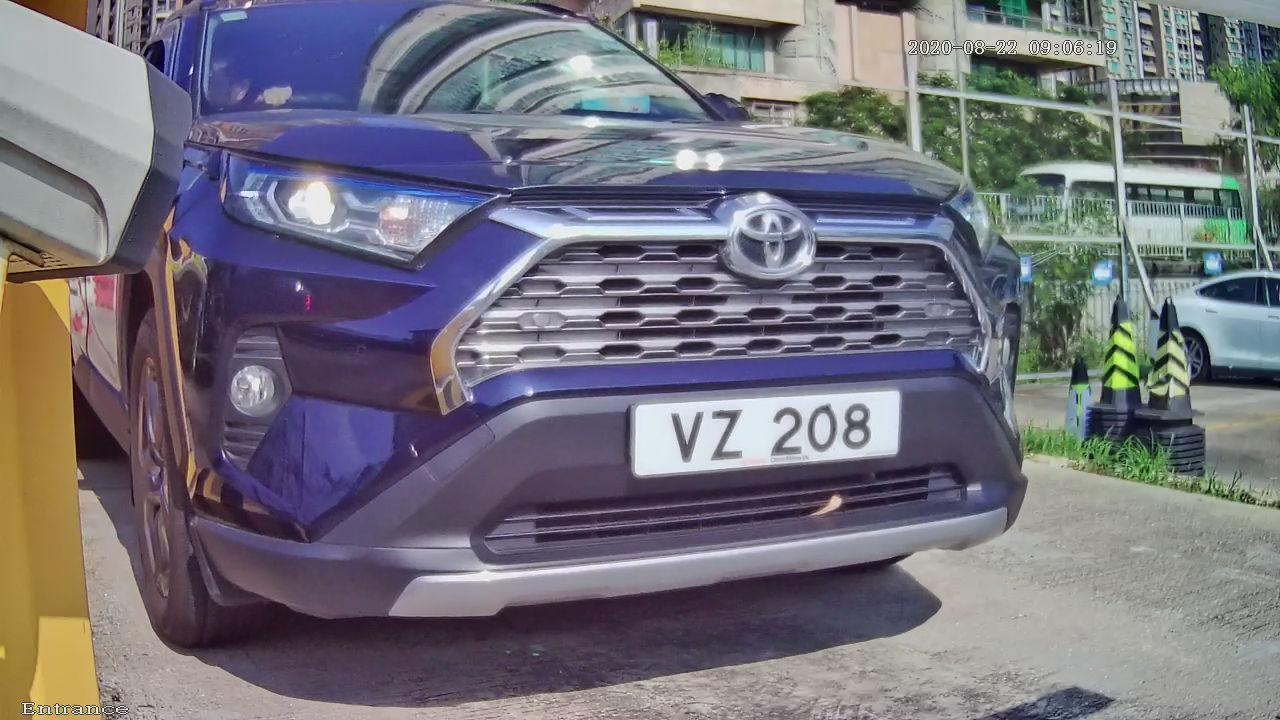Car: (29, 17, 1115, 676)
License Plate: (623, 377, 915, 486)
